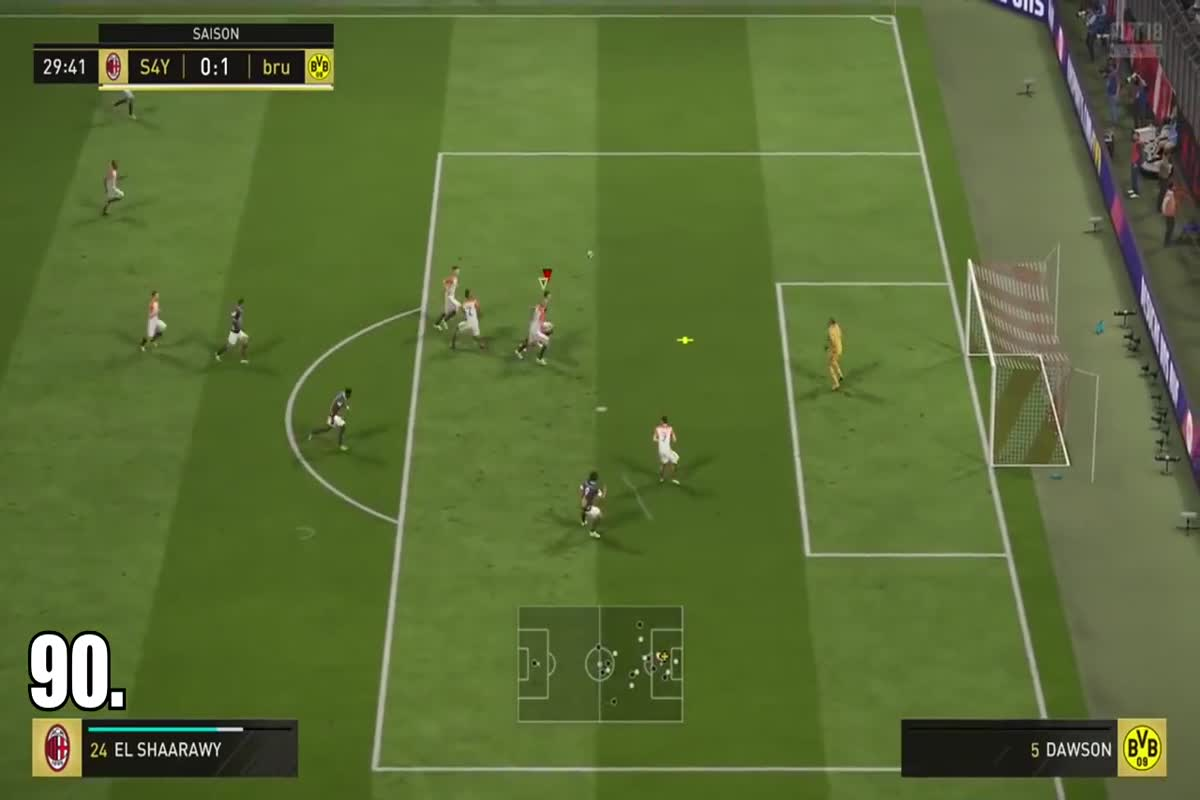ball: (579, 240, 608, 263)
